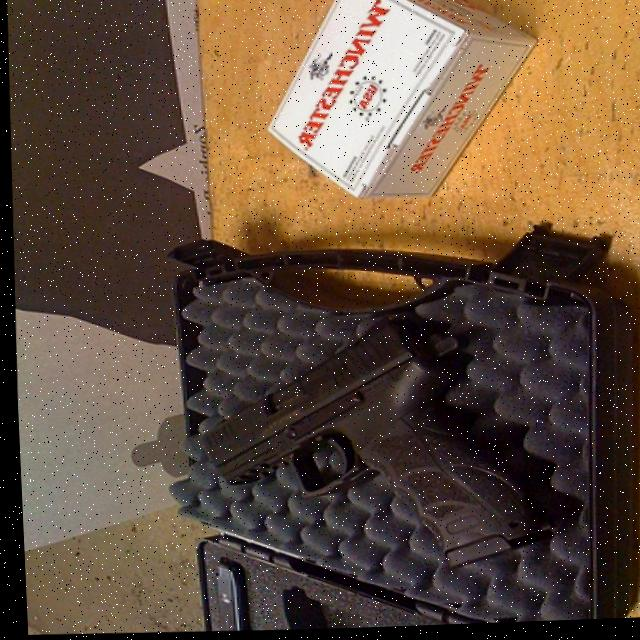pistol: (193, 313, 544, 580)
